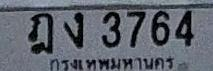3: (102, 11, 120, 47)
4: (176, 10, 193, 46)
6: (151, 10, 169, 45)
7: (127, 10, 145, 47)
A07: (63, 12, 84, 48)
A14: (28, 12, 53, 54)
BKK: (47, 57, 176, 71)
